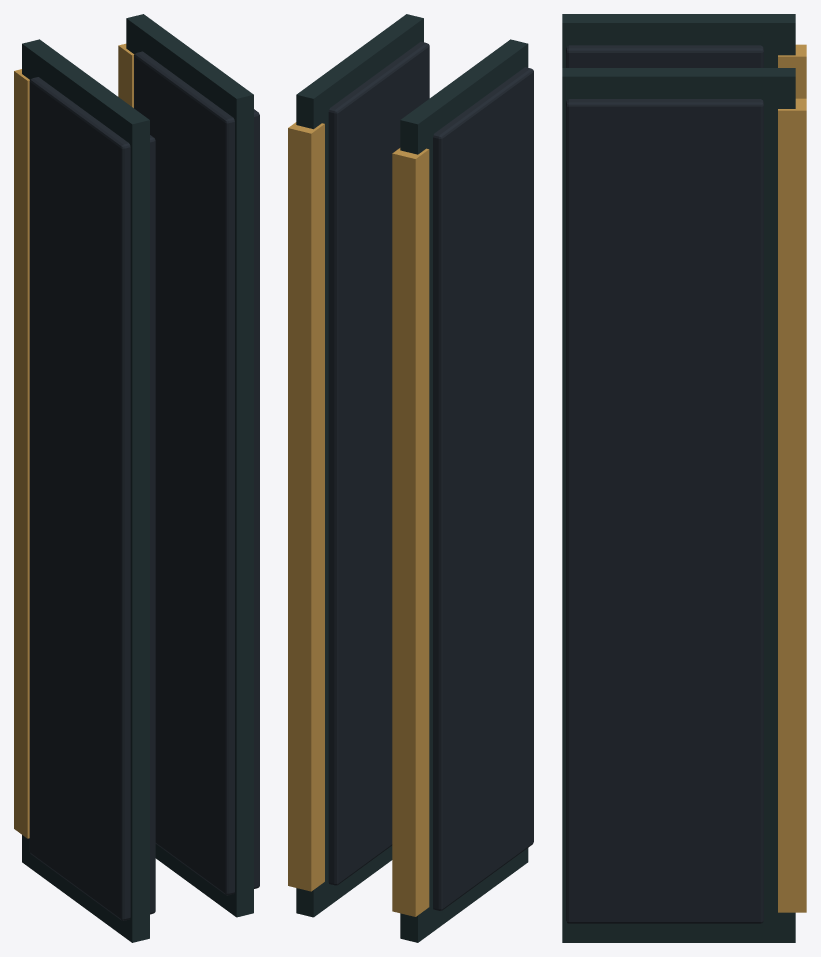
File: ram.glb
The picture shows the model from 3 angles, left to right: view 1: azimuth 30°, elevation 25°; view 2: azimuth 150°, elevation 25°; view 3: azimuth 270°, elevation 25°; orthographic projection. The views are drawn at different scales.
Parts seen in each view (by area): view 1: Heat spreader, Memory PCB, Contacts; view 2: Heat spreader, Contacts, Memory PCB; view 3: Heat spreader, Memory PCB, Contacts.
Part boxes in pixels (x1,y1,x2,y2): Heat spreader: [29, 51, 259, 920]; Memory PCB: [22, 14, 253, 942]; Contacts: [14, 43, 134, 838]; Heat spreader: [328, 41, 533, 910]; Contacts: [288, 122, 429, 916]; Memory PCB: [296, 14, 528, 942]; Heat spreader: [566, 45, 763, 923]; Memory PCB: [562, 14, 795, 942]; Contacts: [778, 44, 806, 912].
Bounding box in the file's own units: 0.024 × 0.135 × 0.0345.
